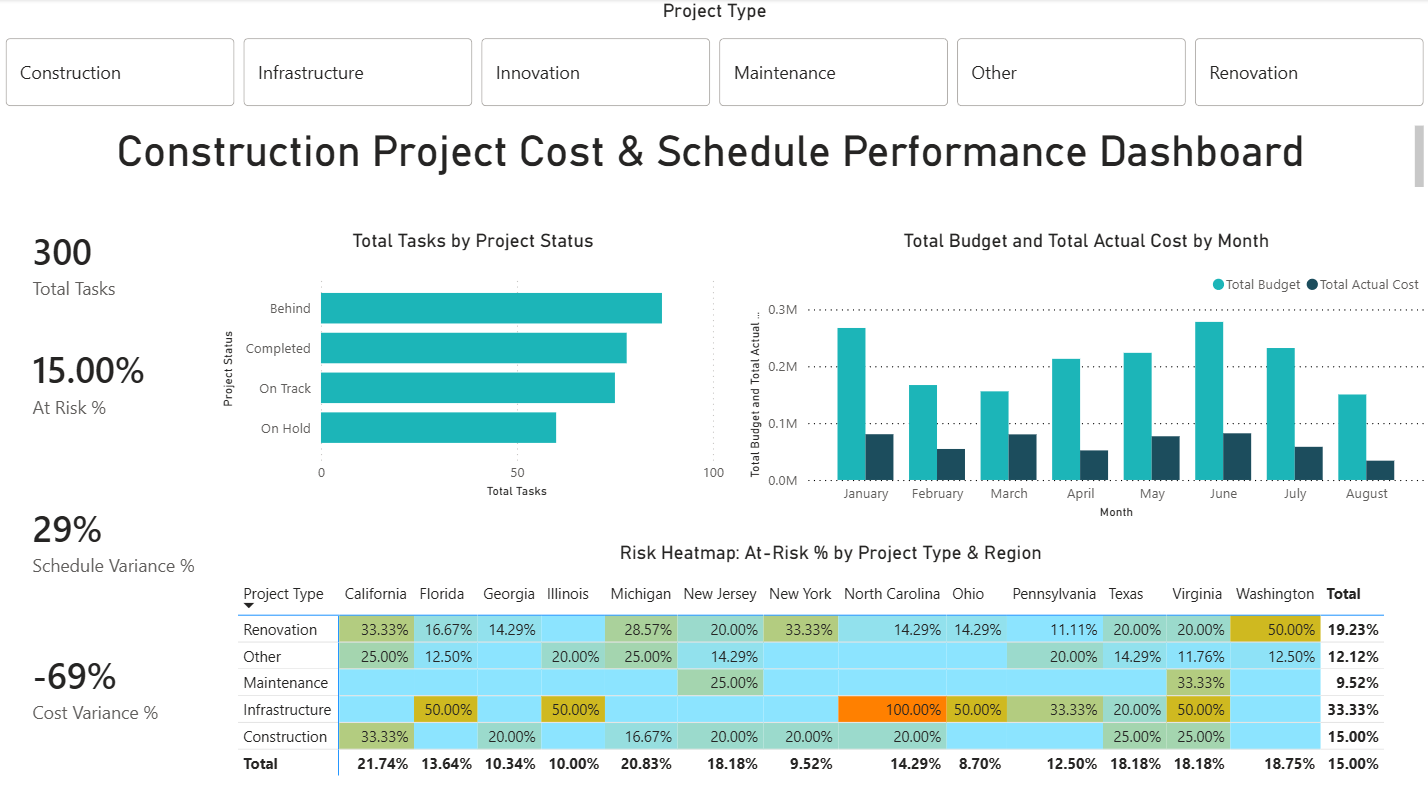

This screenshot's page, from the dashboard's own definition file:
{"tool":"powerbi","page":{"name":"Overview","canvas":[1280,720],"ordinal":0},"visuals":[{"type":"cardVisual","fields":{"Data":["FactTasks.Cost Variance %"]},"box":[0,542.5,175,146.2],"z":0},{"type":"cardVisual","fields":{"Data":["FactTasks.Schedule Variance %"]},"box":[0,426.2,205,116.2],"z":1000},{"type":"cardVisual","fields":{"Data":["FactTasks.At Risk %"]},"box":[0,272.5,175,140],"z":2000},{"type":"cardVisual","fields":{"Data":["FactTasks.Total Tasks"]},"box":[0,176.2,168.8,120],"z":3000},{"type":"clusteredColumnChart","fields":{"Y":["FactTasks.Total Budget","FactTasks.Total Actual Cost"],"Category":["DimProject.Start Date.Variation.Date Hierarchy.Month"]},"box":[665,206.2,615,263.8],"z":4000},{"type":"clusteredBarChart","fields":{"Category":["DimProject.Project Status"],"Y":["FactTasks.Total Tasks"]},"box":[193.8,206.2,460,245],"z":5000},{"type":"pivotTable","title":"Risk Heatmap: At-Risk % by Project Type & Region","fields":{"Rows":["DimProject.Project Type"],"Columns":["FactTasks.Location"],"Values":["FactTasks.At Risk %"]},"box":[207.5,485,1072.5,235],"z":6000},{"type":"textbox","box":[0,108.8,1280,67.5],"z":7000},{"type":"advancedSlicerVisual","fields":{"Values":["DimProject.Project Type"]},"box":[0,0,1280,101.2],"z":8000}]}

Visuals, with their boxes in screenshot pixels (x1, y1, x2, y2), scaled from the page's 1280x720 canvas onto the 1428x792 screenshot:
cardVisual - FactTasks.Cost Variance %: detection(0, 597, 195, 758)
cardVisual - FactTasks.Schedule Variance %: detection(0, 469, 229, 597)
cardVisual - FactTasks.At Risk %: detection(0, 300, 195, 454)
cardVisual - FactTasks.Total Tasks: detection(0, 194, 188, 326)
clusteredColumnChart - FactTasks.Total Budget x FactTasks.Total Actual Cost: detection(742, 227, 1427, 517)
clusteredBarChart - DimProject.Project Status x FactTasks.Total Tasks: detection(216, 227, 729, 496)
"Risk Heatmap: At-Risk % by Project Type & Region" pivotTable: detection(231, 534, 1427, 791)
textbox: detection(0, 120, 1427, 194)
advancedSlicerVisual - DimProject.Project Type: detection(0, 0, 1427, 111)
